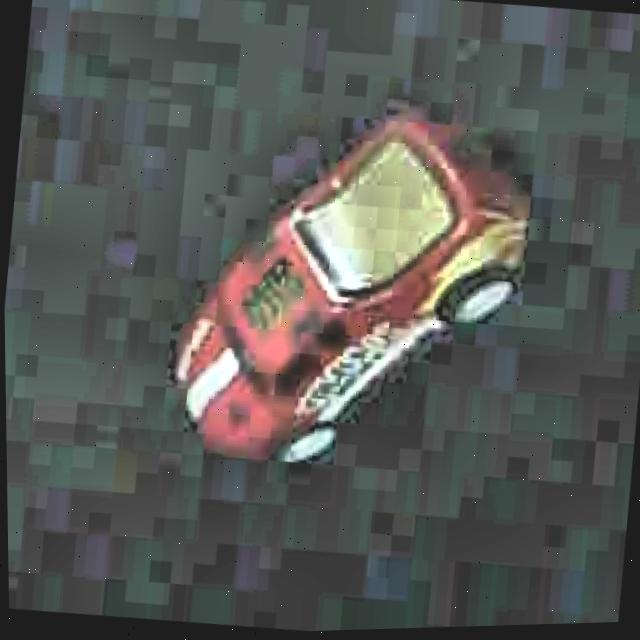car: (153, 88, 550, 497)
